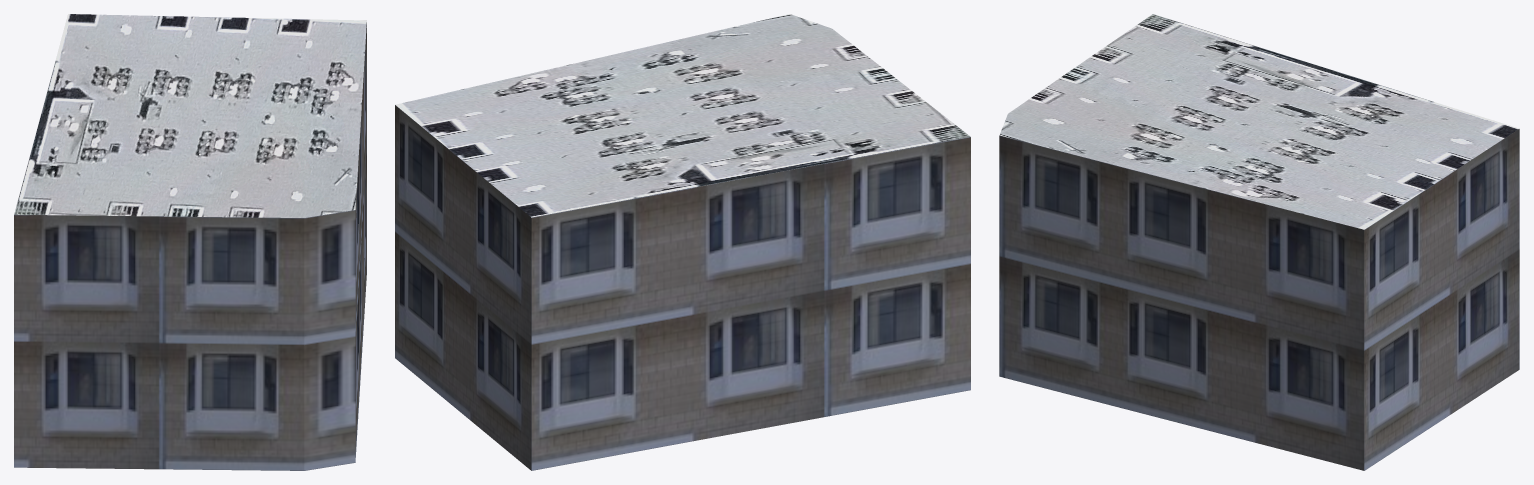
File: ResTex__4485.fbx
The picture shows the model from 3 angles, left to right: view 1: azimuth 30°, elevation 25°; view 2: azimuth 150°, elevation 25°; view 3: azimuth 270°, elevation 25°; orthographic projection. The views are drawn at different scales.
Visible parts, largest first — view 1: CityEngineMaterial_3_m, CityEngineMaterial_4_m; view 2: CityEngineMaterial_3_m, CityEngineMaterial_4_m; view 3: CityEngineMaterial_3_m, CityEngineMaterial_4_m.
Part boxes in pixels (x1,y1,x2,y2): CityEngineMaterial_3_m: (14, 22, 366, 470); CityEngineMaterial_4_m: (14, 14, 366, 217); CityEngineMaterial_3_m: (395, 105, 970, 470); CityEngineMaterial_4_m: (395, 14, 970, 217); CityEngineMaterial_3_m: (999, 129, 1519, 470); CityEngineMaterial_4_m: (999, 14, 1518, 229).
Bounding box in the file's own units: 11.52 × 6 × 11.73.
2 materials, 2 textured.
